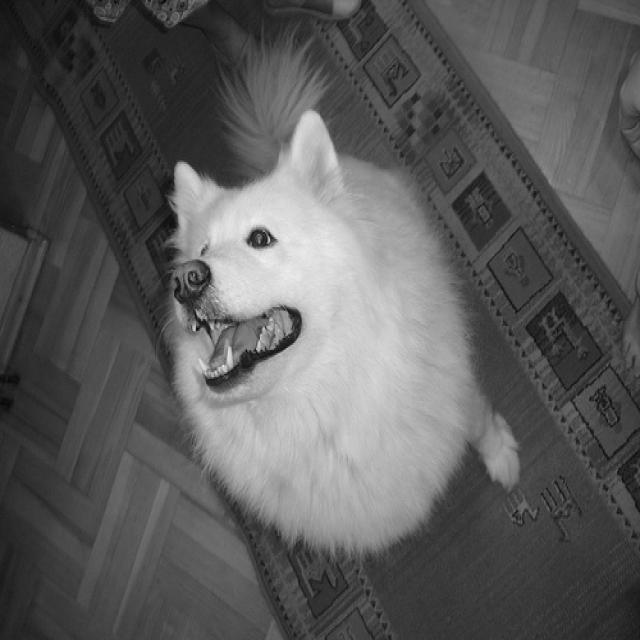dog: (168, 108, 352, 406)
